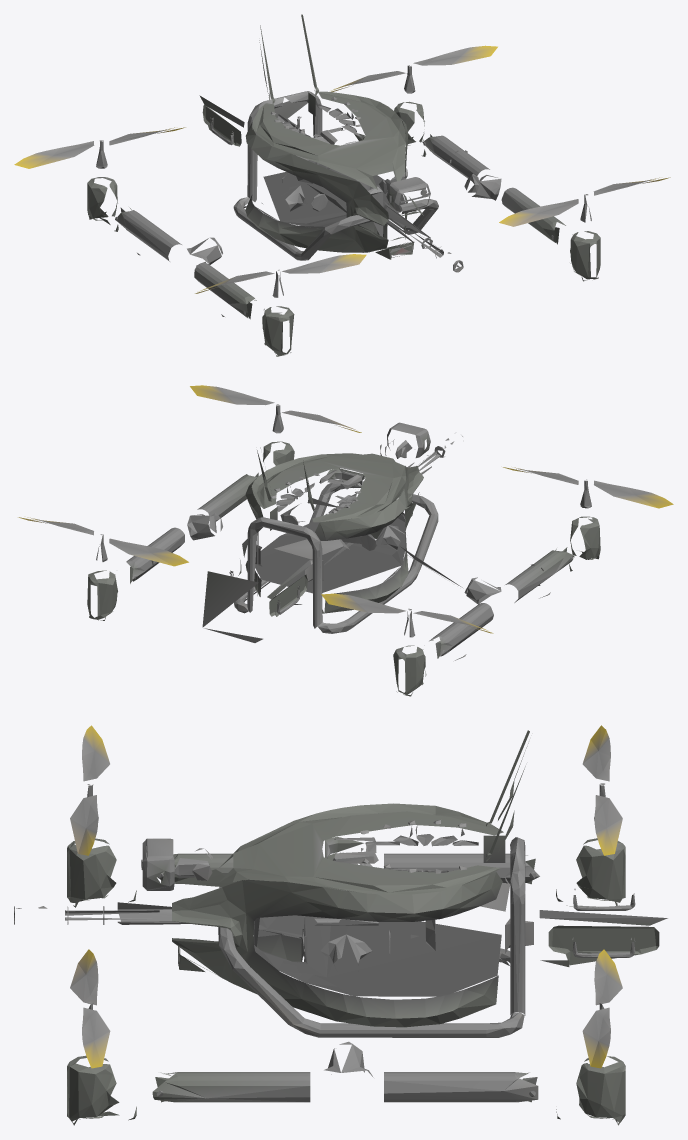
Rendered from drone.glb.
The picture shows the model from 3 angles, top to bottom: view 1: azimuth 30°, elevation 25°; view 2: azimuth 150°, elevation 25°; view 3: azimuth 270°, elevation 25°; orthographic projection. The views are drawn at different scales.
Visible parts, largest first — view 1: geometry_0; view 2: geometry_0; view 3: geometry_0.
Part boxes in pixels (bbox=[...]): geometry_0: bbox=[14, 14, 670, 356]; geometry_0: bbox=[18, 385, 673, 696]; geometry_0: bbox=[14, 725, 667, 1125].
Bounding box in the file's own units: 2.29 × 0.8307 × 1.86.
